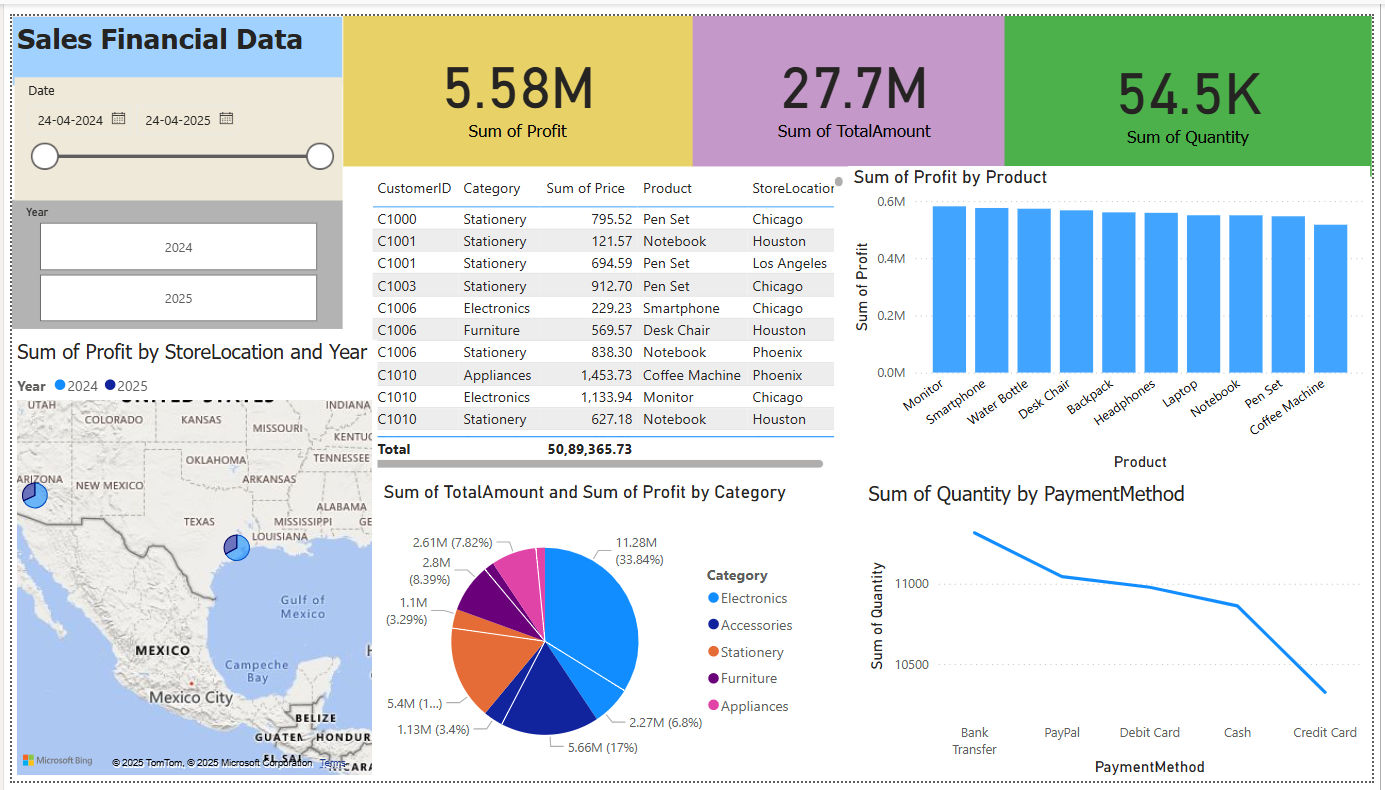

The dashboard page shown, as its layout file describes it:
{"tool":"powerbi","page":{"name":"Page 1","canvas":[1280,720],"ordinal":0},"visuals":[{"type":"tableEx","fields":{"Values":["sales_financial_dataset.CustomerID","sales_financial_dataset.Category","Sum(sales_financial_dataset.Price)","sales_financial_dataset.Product","sales_financial_dataset.StoreLocation"]},"box":[332.6,145.3,454.7,284.9],"z":0},{"type":"card","fields":{"Values":["Sum(sales_financial_dataset.TotalAmount)"]},"box":[640,0,305.7,141.4],"z":1000},{"type":"card","fields":{"Values":["Sum(sales_financial_dataset.Quantity)"]},"box":[934.3,0,345.7,151.4],"z":2000},{"type":"clusteredColumnChart","fields":{"Category":["sales_financial_dataset.Product"],"Y":["Sum(sales_financial_dataset.Profit)"]},"box":[787.1,141.4,491.4,291.4],"z":3000},{"type":"card","fields":{"Values":["Sum(sales_financial_dataset.Profit)"]},"box":[311.4,0,328.6,141.4],"z":4000},{"type":"lineChart","fields":{"Y":["Sum(sales_financial_dataset.Quantity)"],"Category":["sales_financial_dataset.PaymentMethod"]},"box":[801.2,437.2,477.9,282.6],"z":5000},{"type":"pieChart","fields":{"Y":["Sum(sales_financial_dataset.TotalAmount)","Sum(sales_financial_dataset.Profit)"],"Category":["sales_financial_dataset.Category"]},"box":[344.3,437.1,404.3,282.9],"z":6000},{"type":"map","fields":{"Size":["Sum(sales_financial_dataset.Profit)"],"Category":["sales_financial_dataset.StoreLocation"],"Series":["sales_financial_dataset.Date.Variation.Date Hierarchy.Year"]},"box":[0,304.7,344.2,415.1],"z":7000},{"type":"textbox","box":[0,0,311.4,65.7],"z":8000},{"type":"slicer","fields":{"Values":["sales_financial_dataset.Date.Variation.Date Hierarchy.Year"]},"box":[0,172.9,311.4,121.4],"z":9000},{"type":"slicer","fields":{"Values":["sales_financial_dataset.Date"]},"box":[2.9,57.1,308.6,115.7],"z":10000}]}

Visuals, with their boxes in screenshot pixels (x1, y1, x2, y2), scaled from the page's 1280x720 canvas onto the 1385x790 screenshot:
tableEx - sales_financial_dataset.CustomerID x sales_financial_dataset.Category: l=360, t=159, r=852, b=472
card - Sum(sales_financial_dataset.TotalAmount): l=692, t=0, r=1023, b=155
card - Sum(sales_financial_dataset.Quantity): l=1011, t=0, r=1384, b=166
clusteredColumnChart - sales_financial_dataset.Product x Sum(sales_financial_dataset.Profit): l=852, t=155, r=1383, b=475
card - Sum(sales_financial_dataset.Profit): l=337, t=0, r=692, b=155
lineChart - Sum(sales_financial_dataset.Quantity) x sales_financial_dataset.PaymentMethod: l=867, t=480, r=1384, b=789
pieChart - Sum(sales_financial_dataset.TotalAmount) x Sum(sales_financial_dataset.Profit): l=373, t=480, r=810, b=789
map - Sum(sales_financial_dataset.Profit) x sales_financial_dataset.StoreLocation: l=0, t=334, r=372, b=789
textbox: l=0, t=0, r=337, b=72
slicer - sales_financial_dataset.Date.Variation.Date Hierarchy.Year: l=0, t=190, r=337, b=323
slicer - sales_financial_dataset.Date: l=3, t=63, r=337, b=190
